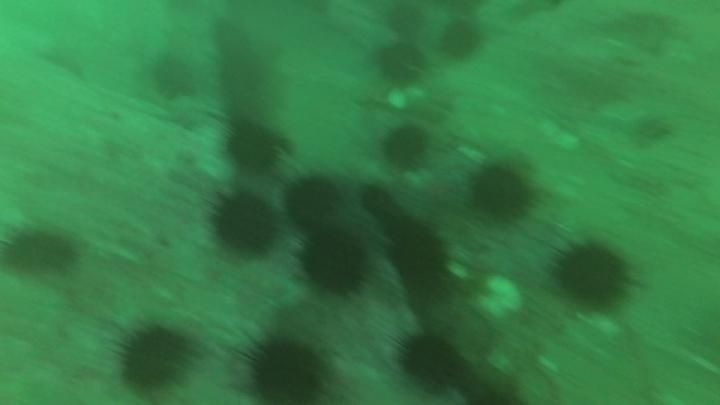echinus: (241, 334, 329, 404), (551, 240, 633, 310), (114, 323, 193, 392), (298, 229, 370, 297), (209, 192, 279, 257), (393, 329, 465, 392), (386, 223, 450, 292), (2, 223, 79, 277), (468, 162, 535, 223), (222, 117, 286, 176), (283, 175, 341, 229), (217, 50, 267, 99), (375, 40, 427, 86), (149, 52, 197, 101), (380, 124, 430, 171), (438, 18, 484, 63), (470, 372, 528, 405), (383, 2, 427, 39), (358, 184, 398, 222)
